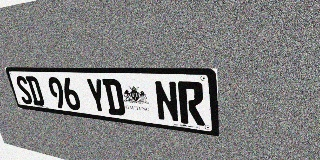6: (60, 77, 82, 111)
9: (46, 77, 68, 109)
D: (102, 79, 126, 116), (25, 76, 45, 106)
N: (153, 80, 180, 123)
R: (177, 81, 205, 126)
S: (14, 76, 34, 105)
Y: (85, 78, 108, 114)
